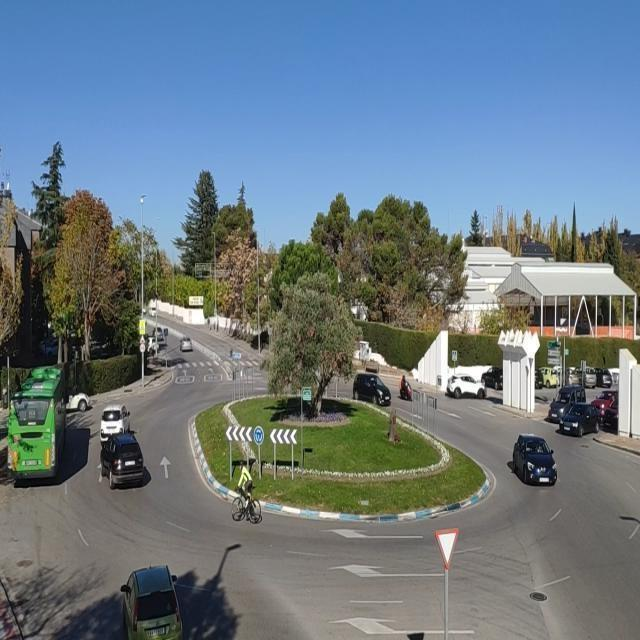Bus: (8, 365, 66, 482)
Car: (120, 564, 183, 639), (100, 433, 147, 489), (511, 432, 558, 487), (546, 385, 587, 423), (557, 403, 601, 436), (353, 374, 392, 406), (100, 405, 130, 442), (446, 374, 487, 400), (590, 389, 618, 417), (603, 394, 618, 432), (481, 366, 504, 389), (66, 392, 91, 412), (576, 366, 597, 388), (557, 366, 580, 386), (540, 366, 558, 388), (594, 367, 612, 388), (44, 339, 58, 358), (146, 338, 160, 353), (534, 369, 544, 389), (152, 326, 164, 342), (180, 337, 192, 352)
Cycle: (229, 484, 262, 524), (400, 382, 413, 401)
